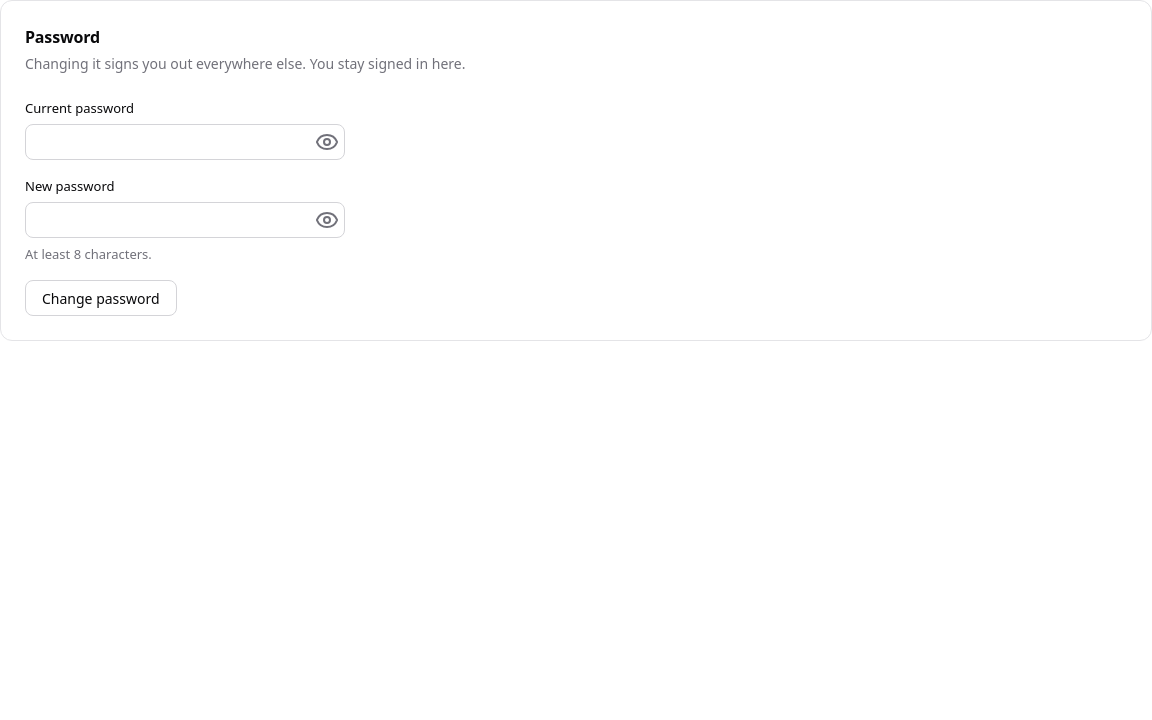
Test case: PasswordCard › changes the password, checking the new one first
Type "old password" into the password field labelled "Current password" at [185, 142], box [25,124,345,160]
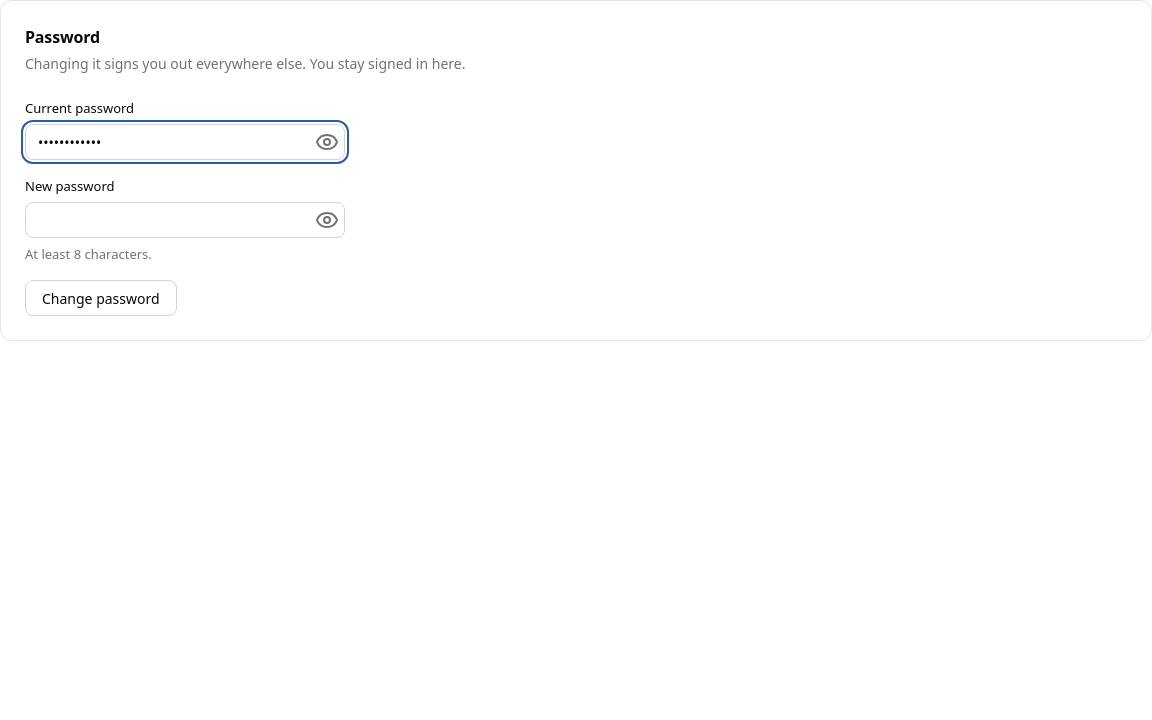
Type "short" into the password field labelled "New password" at [185, 220], box [25,202,345,238]
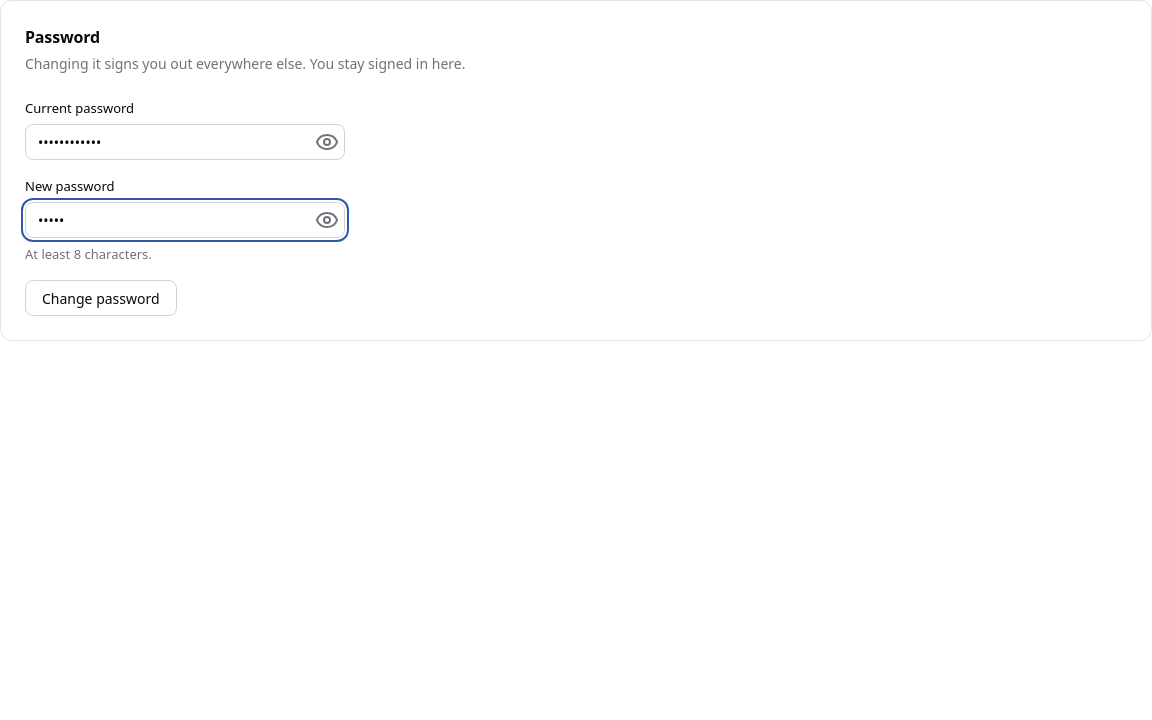
Click the button "Change password" at [101, 298], box [25,280,177,316]
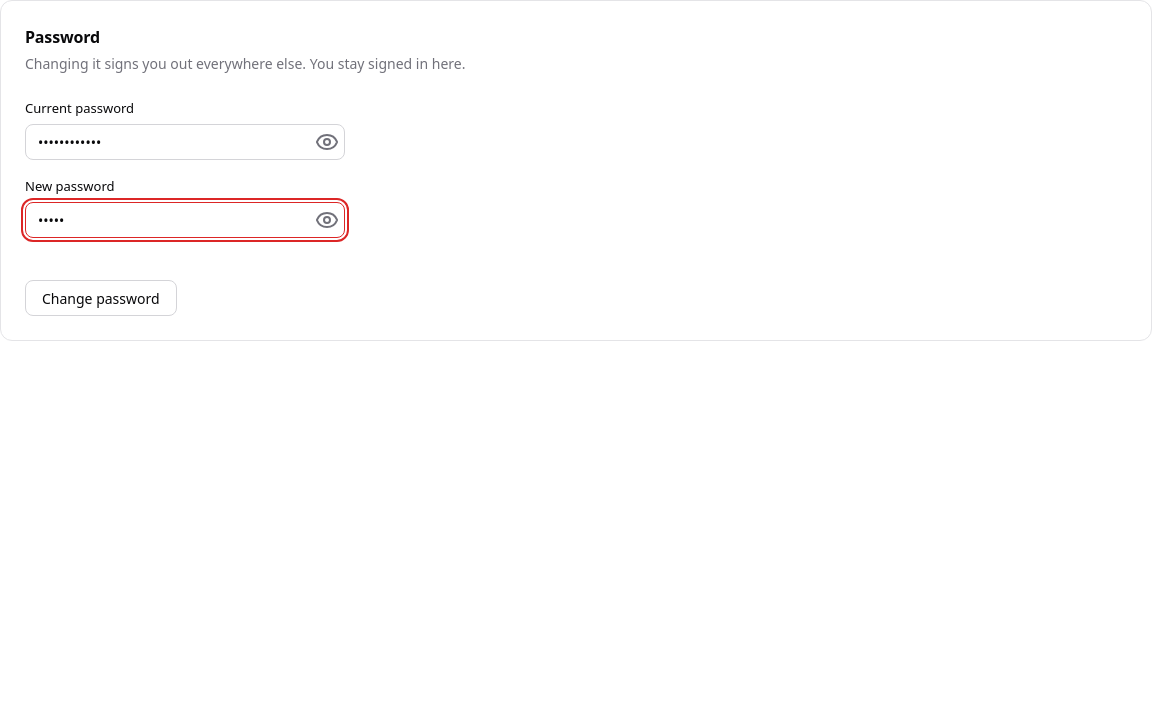
Type "a much longer password" into the password field labelled "New password" at [185, 220], box [25,202,345,238]
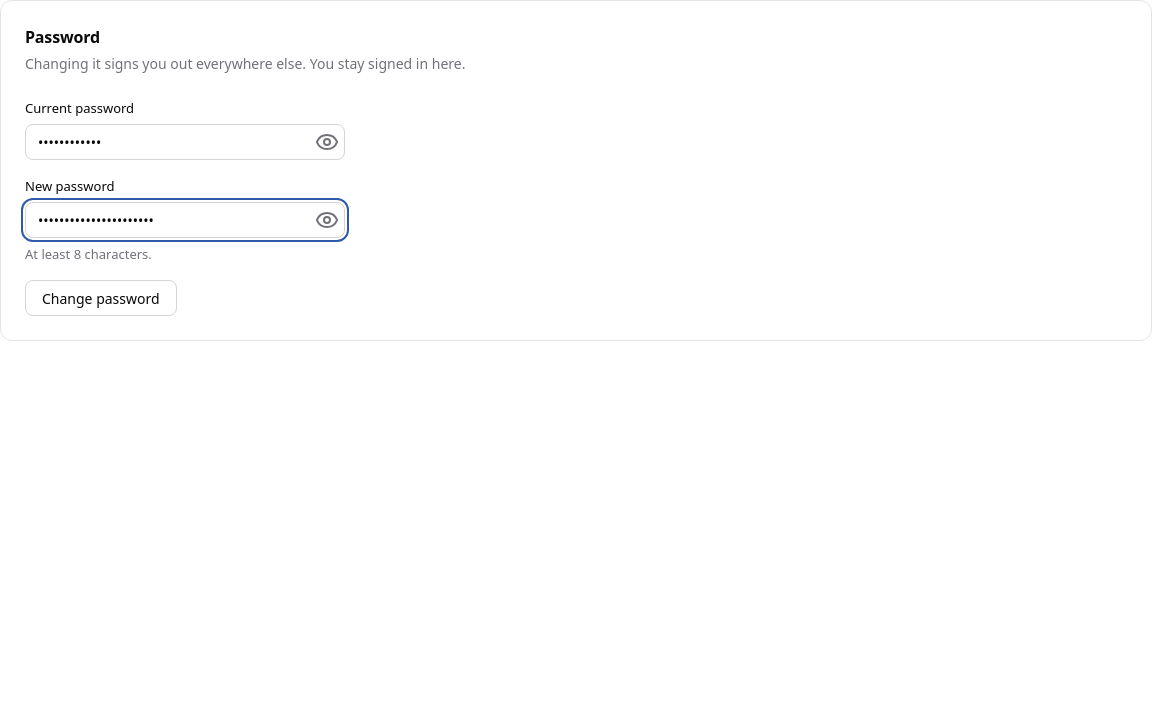
Click the button "Change password" at [101, 298], box [25,280,177,316]
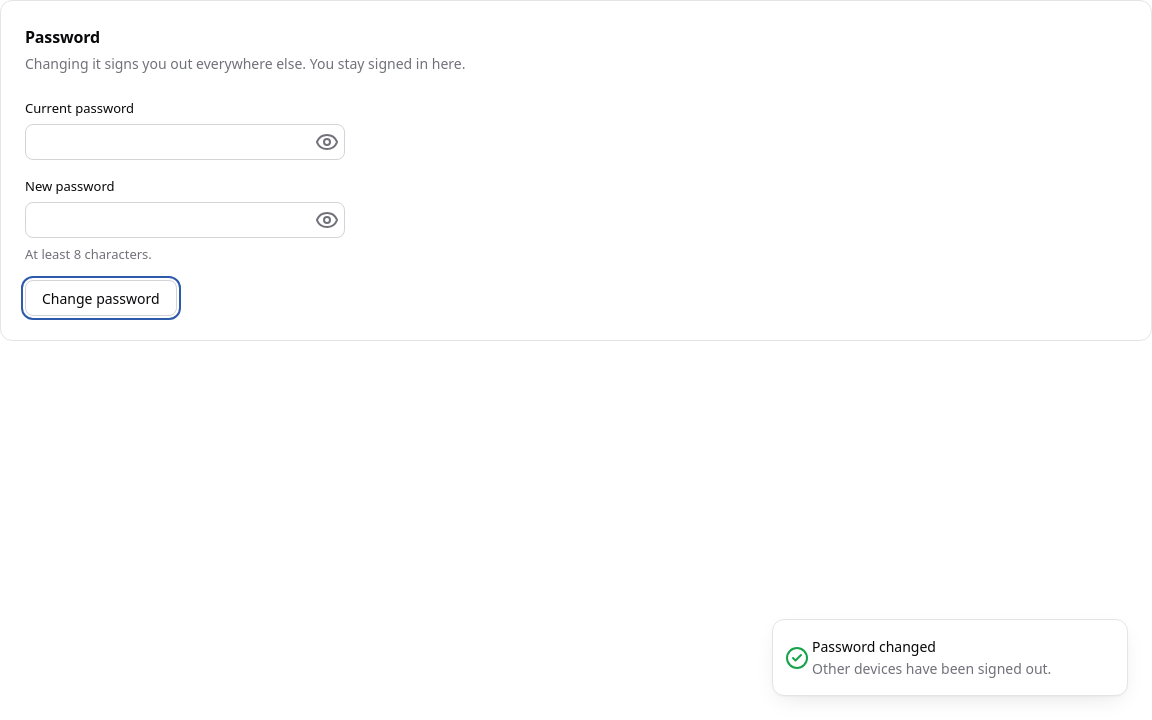
Check: the text "Password changed" is shown, box [812,637,936,656]
